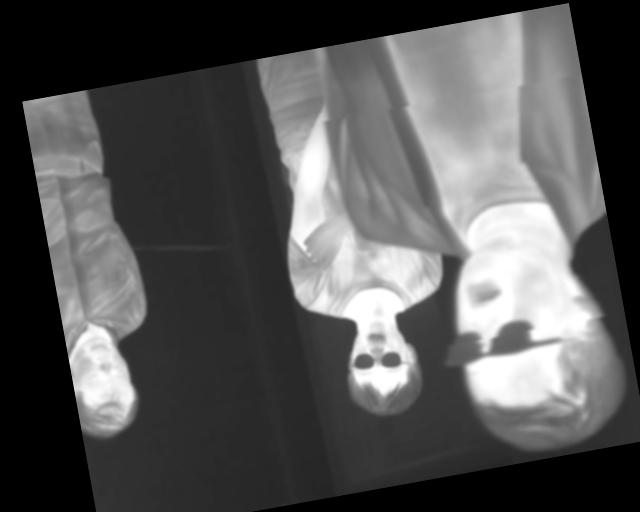face: (441, 228, 632, 465), (336, 312, 427, 423), (66, 329, 146, 444)
